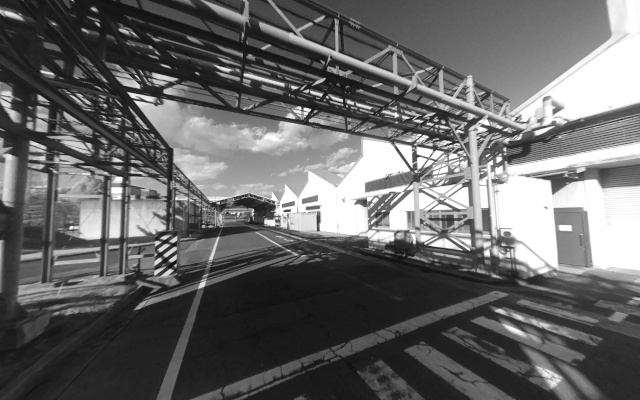bollard: (153, 231, 178, 281)
